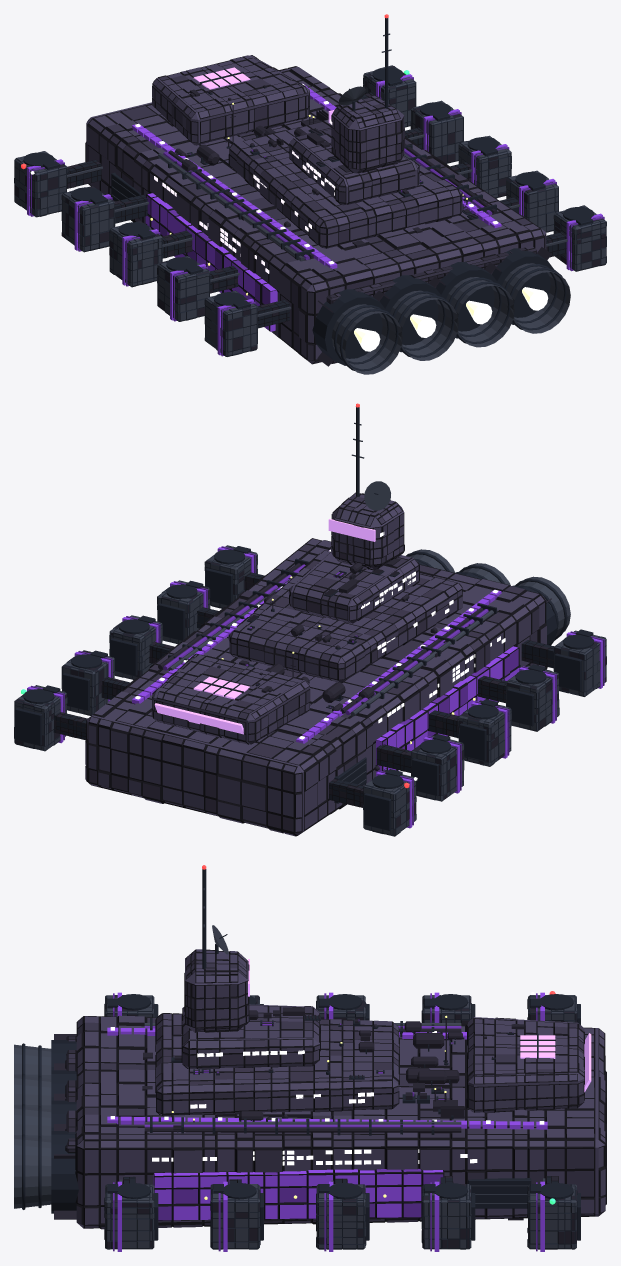
Rendered from titan.glb.
3 views of the same model, one above another, from view 1: azimuth 30°, elevation 25°; view 2: azimuth 150°, elevation 25°; view 3: azimuth 270°, elevation 25° (orthographic). The views are drawn at different scales.
Parts seen in each view (by area): view 1: titan_mesh; view 2: titan_mesh, radar_mesh; view 3: titan_mesh.
Part boxes in pixels (bbox=[...]): titan_mesh: bbox=[14, 18, 606, 374]; titan_mesh: bbox=[14, 407, 606, 836]; radar_mesh: bbox=[364, 481, 390, 510]; titan_mesh: bbox=[14, 869, 606, 1251].
Bounding box in the file's own units: 22.23 × 15.56 × 26.53.
